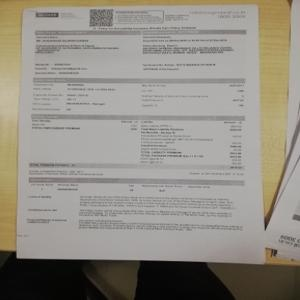image: (35, 10, 61, 18)
table: (27, 176, 248, 236), (30, 116, 247, 172), (36, 28, 246, 78), (31, 77, 247, 115)
text: (193, 8, 249, 24)
